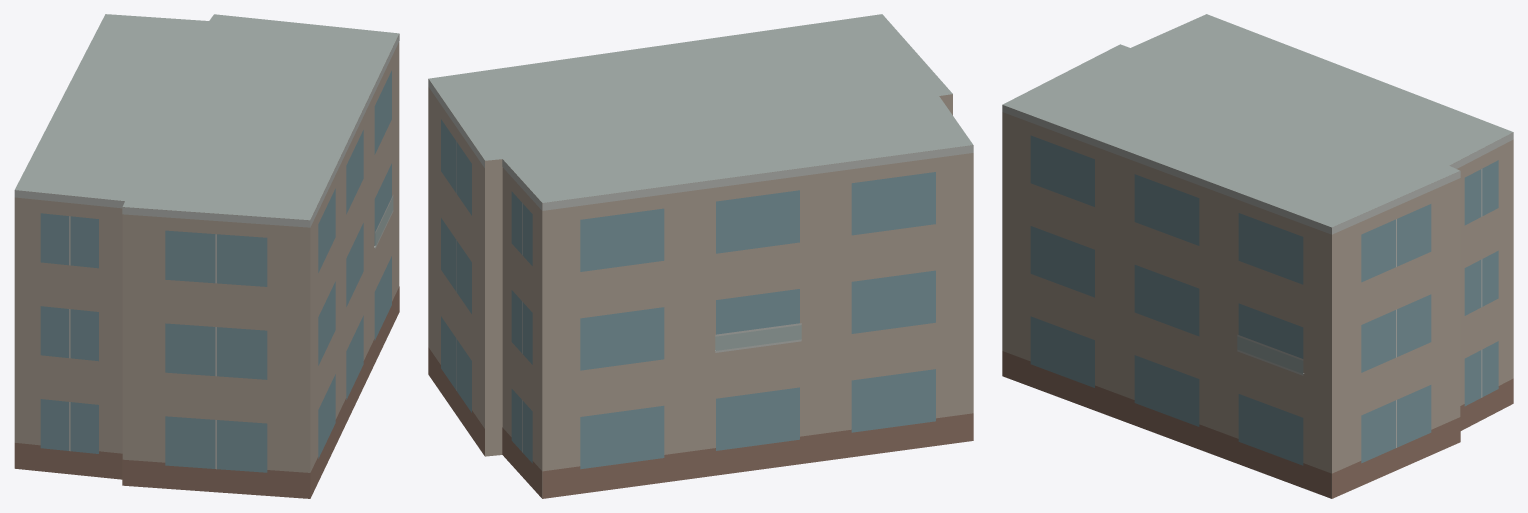
Rendered from survey-upis-32524460.glb.
3 views of the same model, side by side, from view 1: azimuth 30°, elevation 25°; view 2: azimuth 150°, elevation 25°; view 3: azimuth 270°, elevation 25° (orthographic). The views are drawn at different scales.
Parts seen in each view (by area): view 1: survey-upis-32524460.tmp; view 2: survey-upis-32524460.tmp; view 3: survey-upis-32524460.tmp.
Part boxes in pixels (x1,y1,x2,y2): survey-upis-32524460.tmp: (14,14,399,498); survey-upis-32524460.tmp: (428,14,973,498); survey-upis-32524460.tmp: (1002,14,1513,498).
Size of the model in its own units: 15.44 by 9.15 by 15.63.
